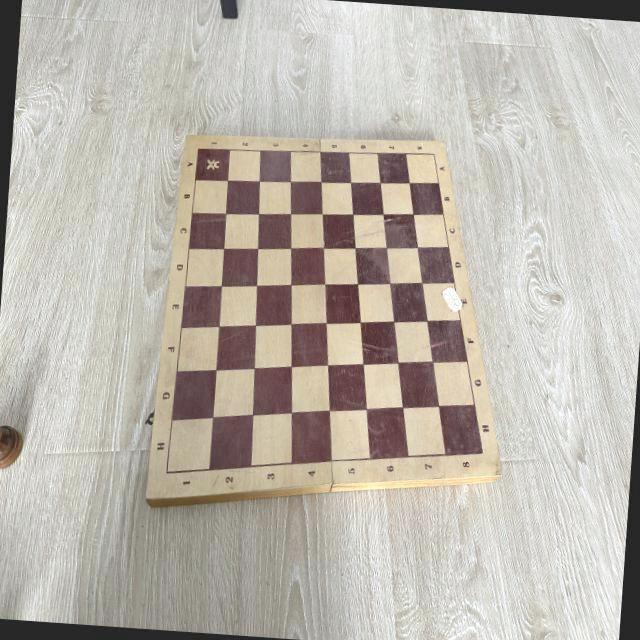chess-table-corners: (192, 143, 202, 154), (478, 447, 486, 458), (164, 466, 170, 476), (431, 149, 436, 159)
